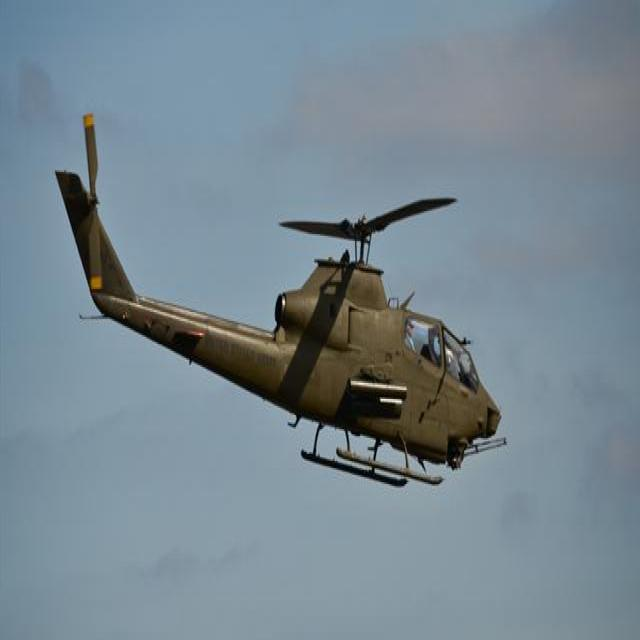MIL_HELO: (56, 105, 514, 520)
